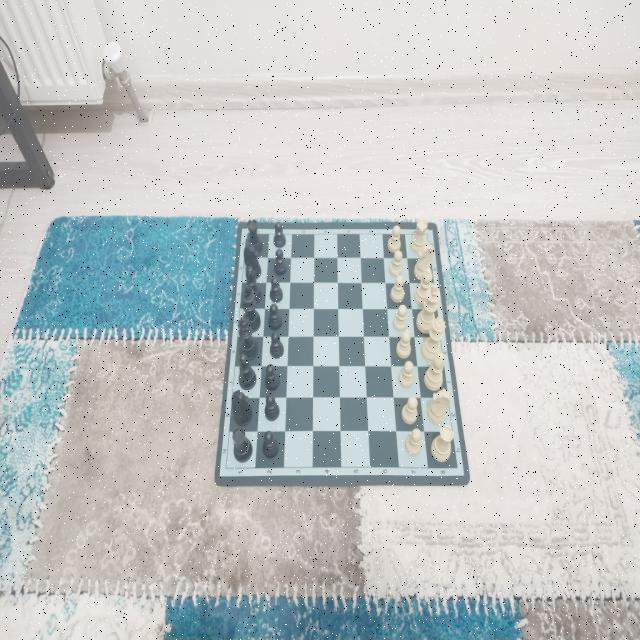corner: (423, 228, 432, 240), (454, 463, 463, 474), (242, 228, 250, 239), (222, 464, 230, 473)
